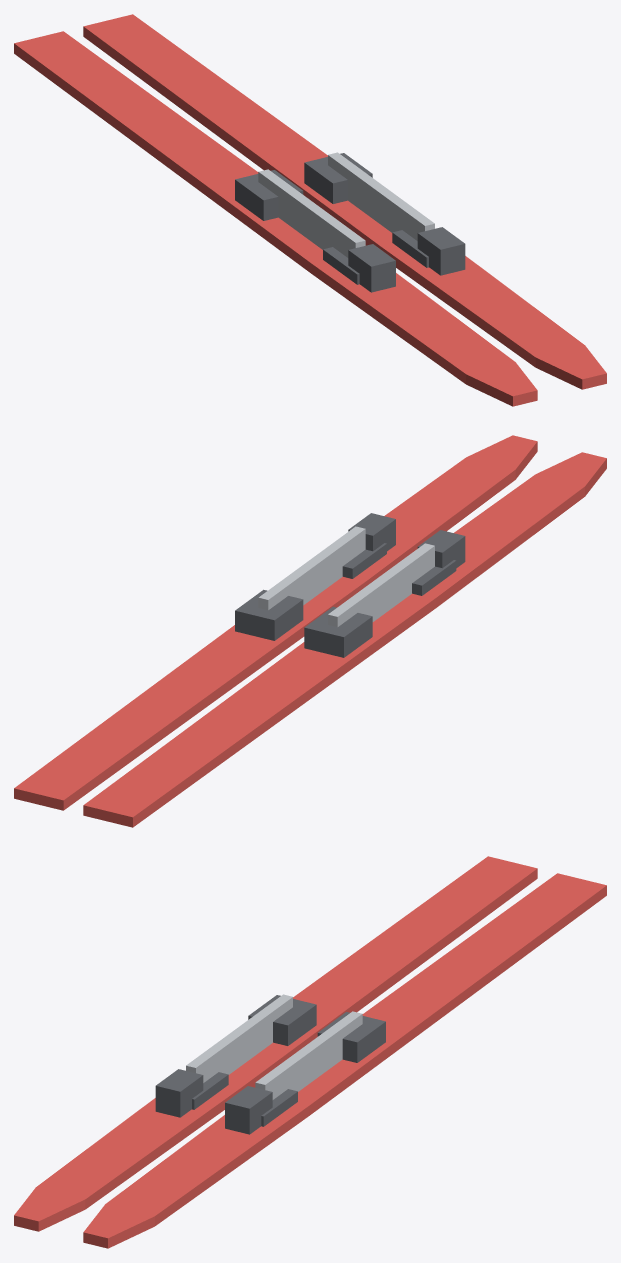
File: skis.glb
3 views of the same model, one above another, from view 1: azimuth 30°, elevation 25°; view 2: azimuth 150°, elevation 25°; view 3: azimuth 330°, elevation 25° (orthographic).
Parts seen in each view (by area): view 1: ski-pair; view 2: ski-pair; view 3: ski-pair.
Boxes of the visible parts, box(x1,y1,x2,y2) form: ski-pair: box(14, 14, 606, 406); ski-pair: box(14, 435, 606, 827); ski-pair: box(14, 856, 606, 1248).
Size of the model in its own units: 0.2501 by 0.0799 by 1.7.
